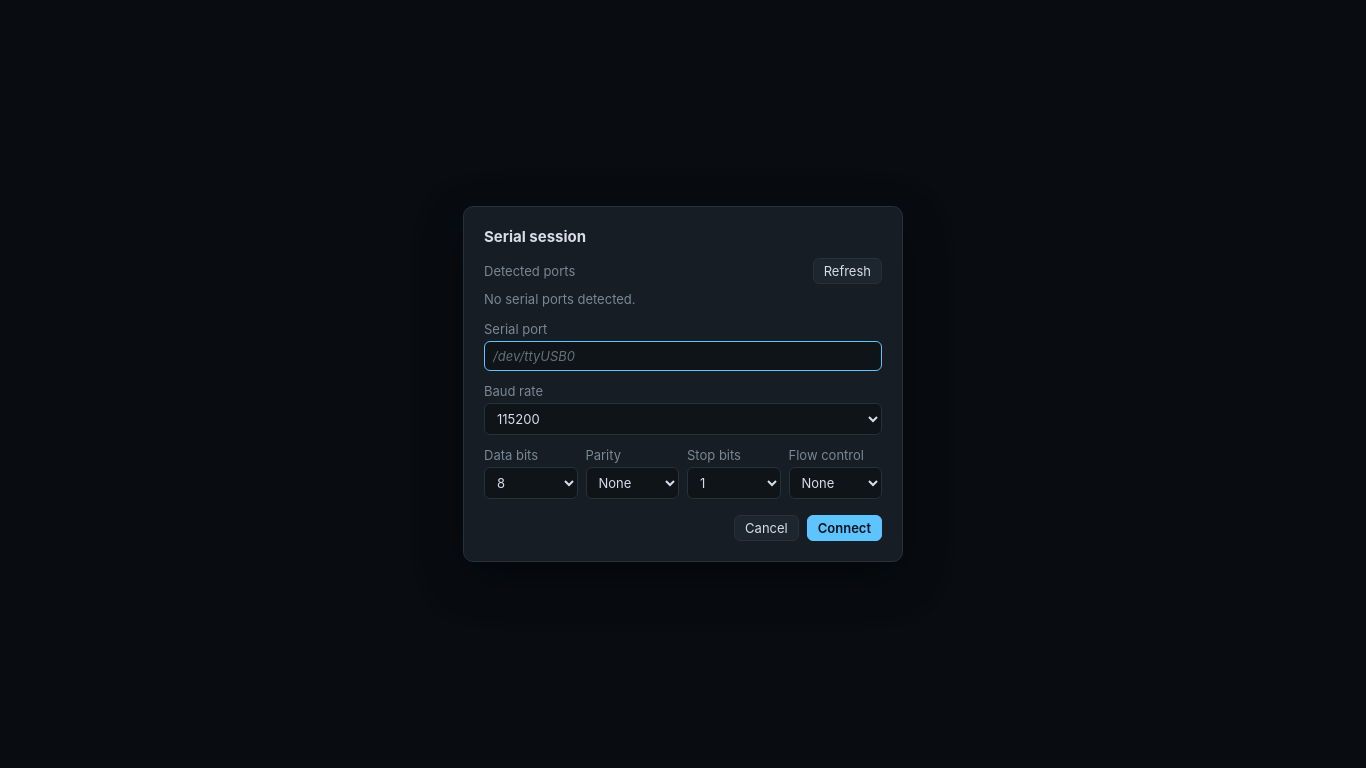
Test: SerialDialog › refreshes the port list and shows validation errors
This screenshot has width=1366, height=768.
Expected: the text "No serial ports detected." is shown, left=484, top=291, right=636, bottom=307
Click the button "Refresh".
click(847, 271)  # box left=813, top=258, right=882, bottom=284
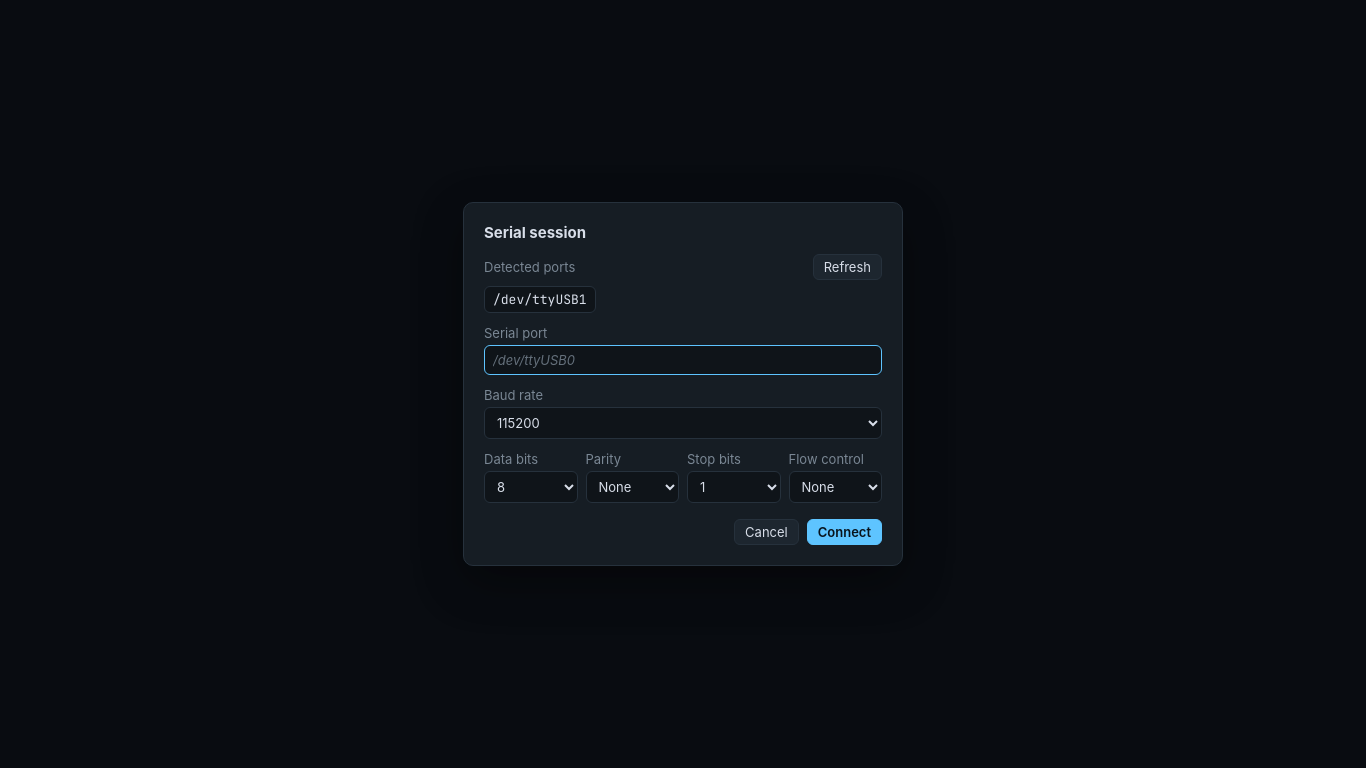
Expected: the button "/dev/ttyUSB1" is shown, left=484, top=286, right=596, bottom=313
Click the button "Connect".
click(844, 532)  # box left=807, top=519, right=882, bottom=545
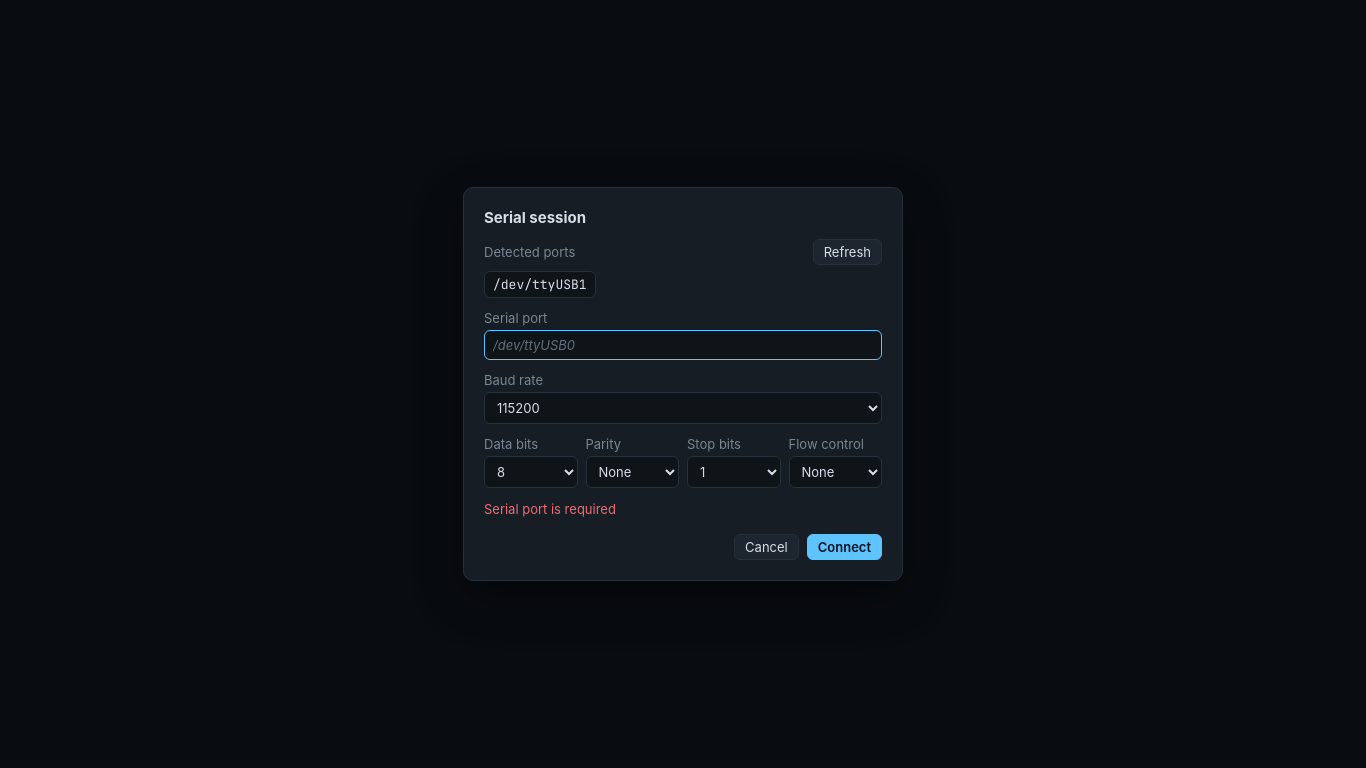
Expected: the message reads "Serial port is required", left=484, top=501, right=616, bottom=517
